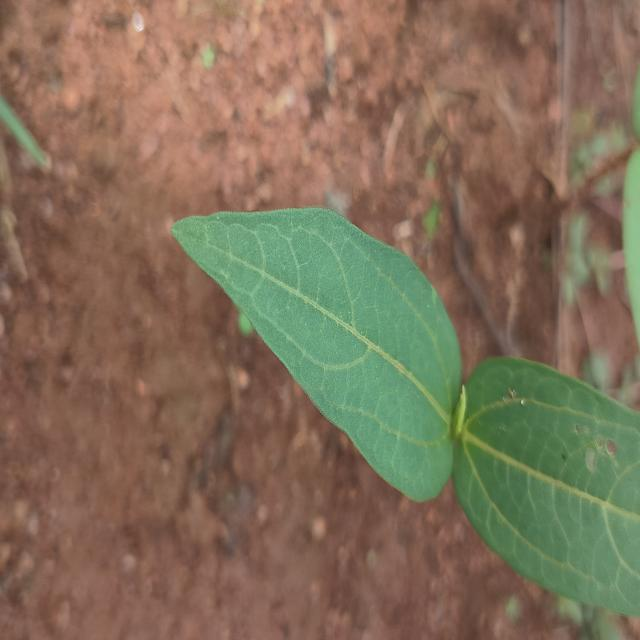Black gram_healthy: (169, 203, 460, 506)
